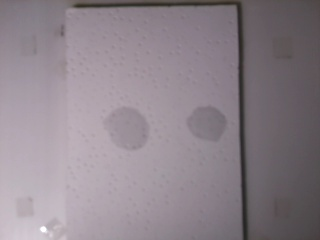Water_detected: (107, 114, 140, 145), (202, 116, 218, 137)
